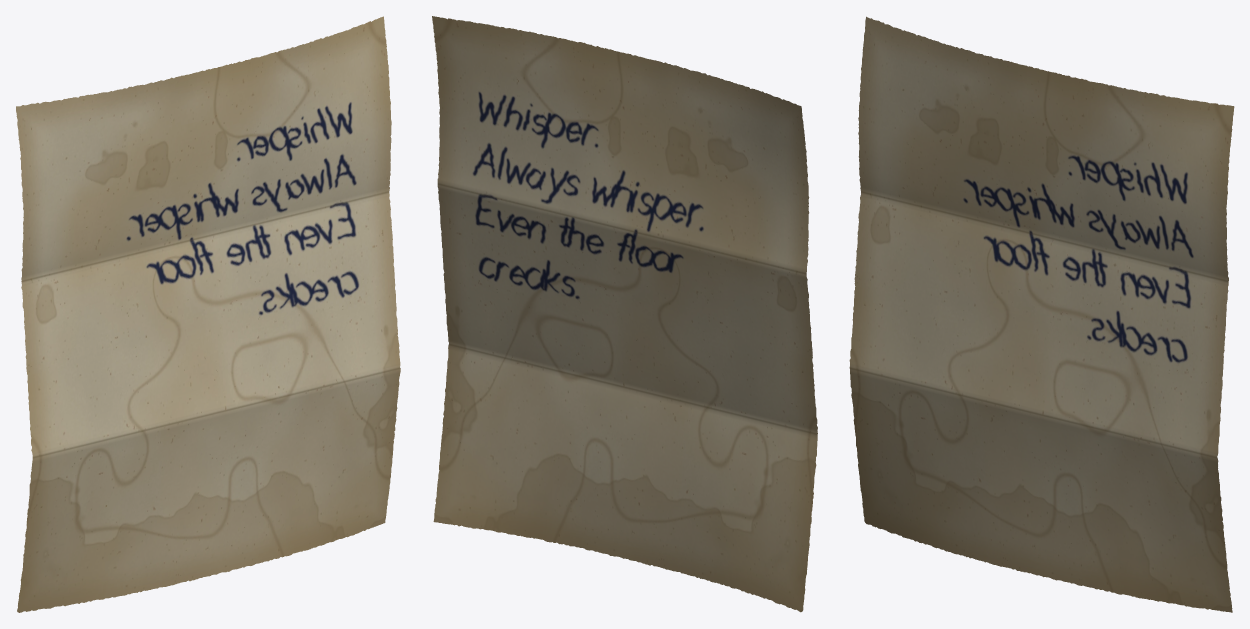
The model's file is note_whisper.glb.
3 views of the same model, side by side, from view 1: azimuth 30°, elevation 25°; view 2: azimuth 150°, elevation 25°; view 3: azimuth 330°, elevation 25° (orthographic).
Parts seen in each view (by area): view 1: note_whisper; view 2: note_whisper; view 3: note_whisper.
Part boxes in pixels (box(x1,y1,x2,y2)): note_whisper: box(16, 16, 400, 612); note_whisper: box(432, 16, 817, 612); note_whisper: box(849, 16, 1234, 612).
Bounding box in the file's own units: 0.16 × 0.21 × 0.0127.
1 material, 1 textured.
